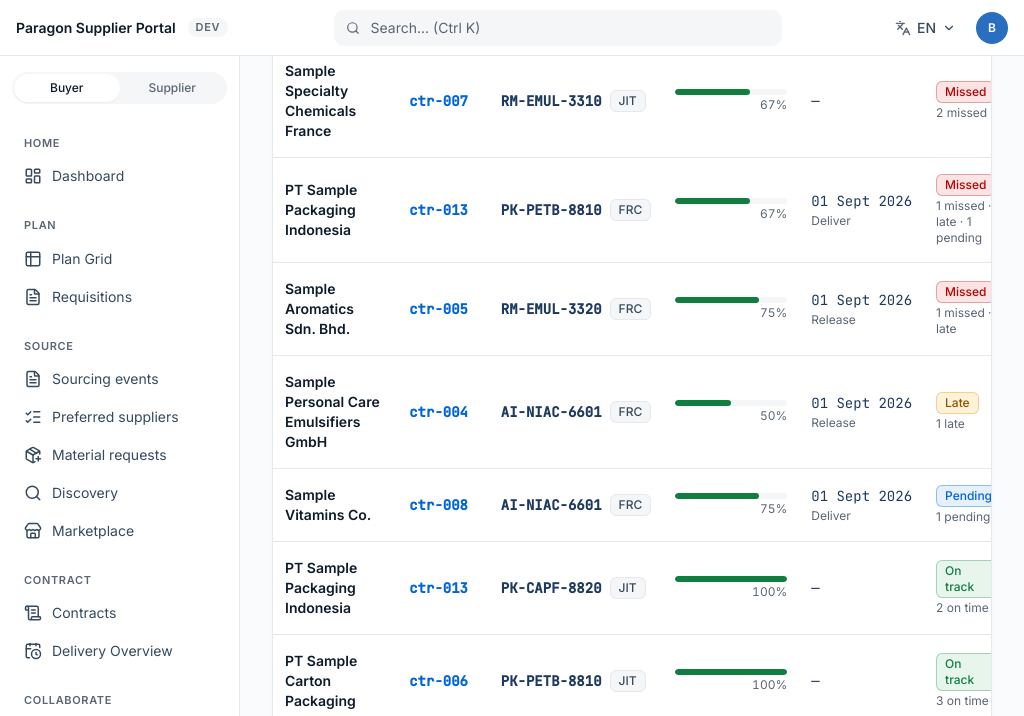
BuyerDeliveryAgreements — at-scale exception-first roll-up › the roll-up SidePanel shows an inferred proposal but NO confirm control (read-only)
The width and height of the screenshot is (1024, 716).
(page scrolled)
Click the row that starts with "Sample Personal Care Emulsifiers GmbH" at (648, 412), box [273,355,1023,468]
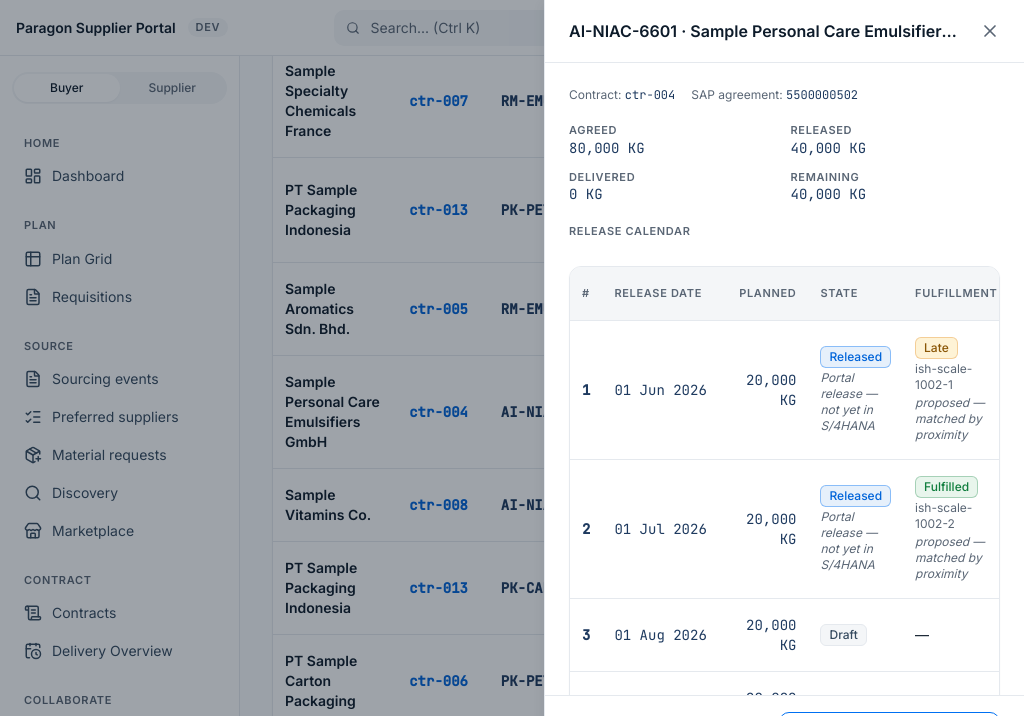
Expected: the text "proposed — matched by proximity" below "ish-scale-1002-1" is shown, [915,395,985,442]
